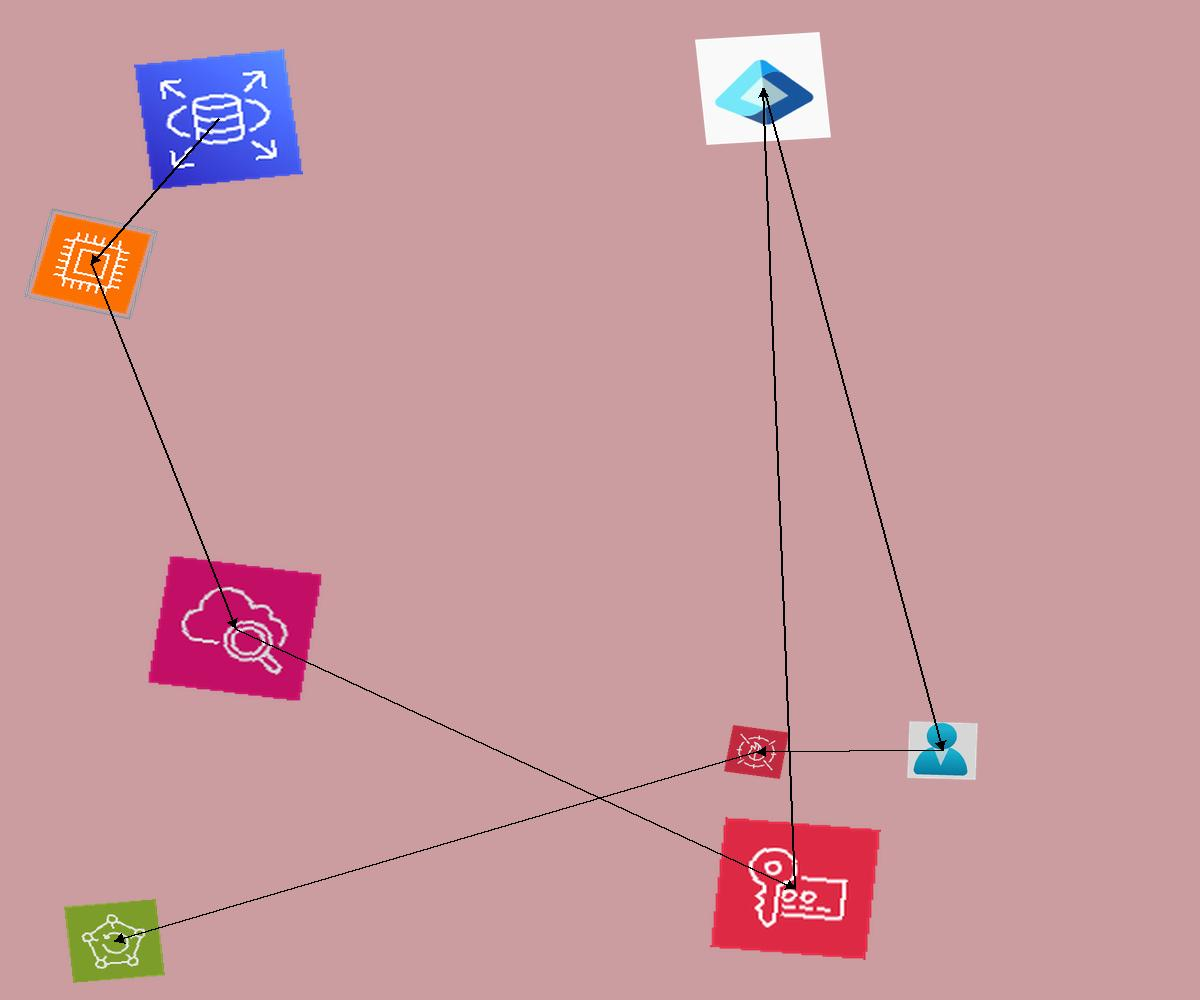AWS-Backup: (64, 899, 165, 983)
AWS-Category_Compute: (24, 208, 158, 320)
AWS-CloudWatch: (147, 555, 323, 702)
AWS-Key-Management-Service: (710, 817, 881, 960)
AWS-RDS: (134, 49, 303, 190)
AWS-WAF: (724, 725, 789, 779)
Azure_microsoft_entra: (695, 32, 831, 145)
Azure_users: (907, 721, 978, 780)
